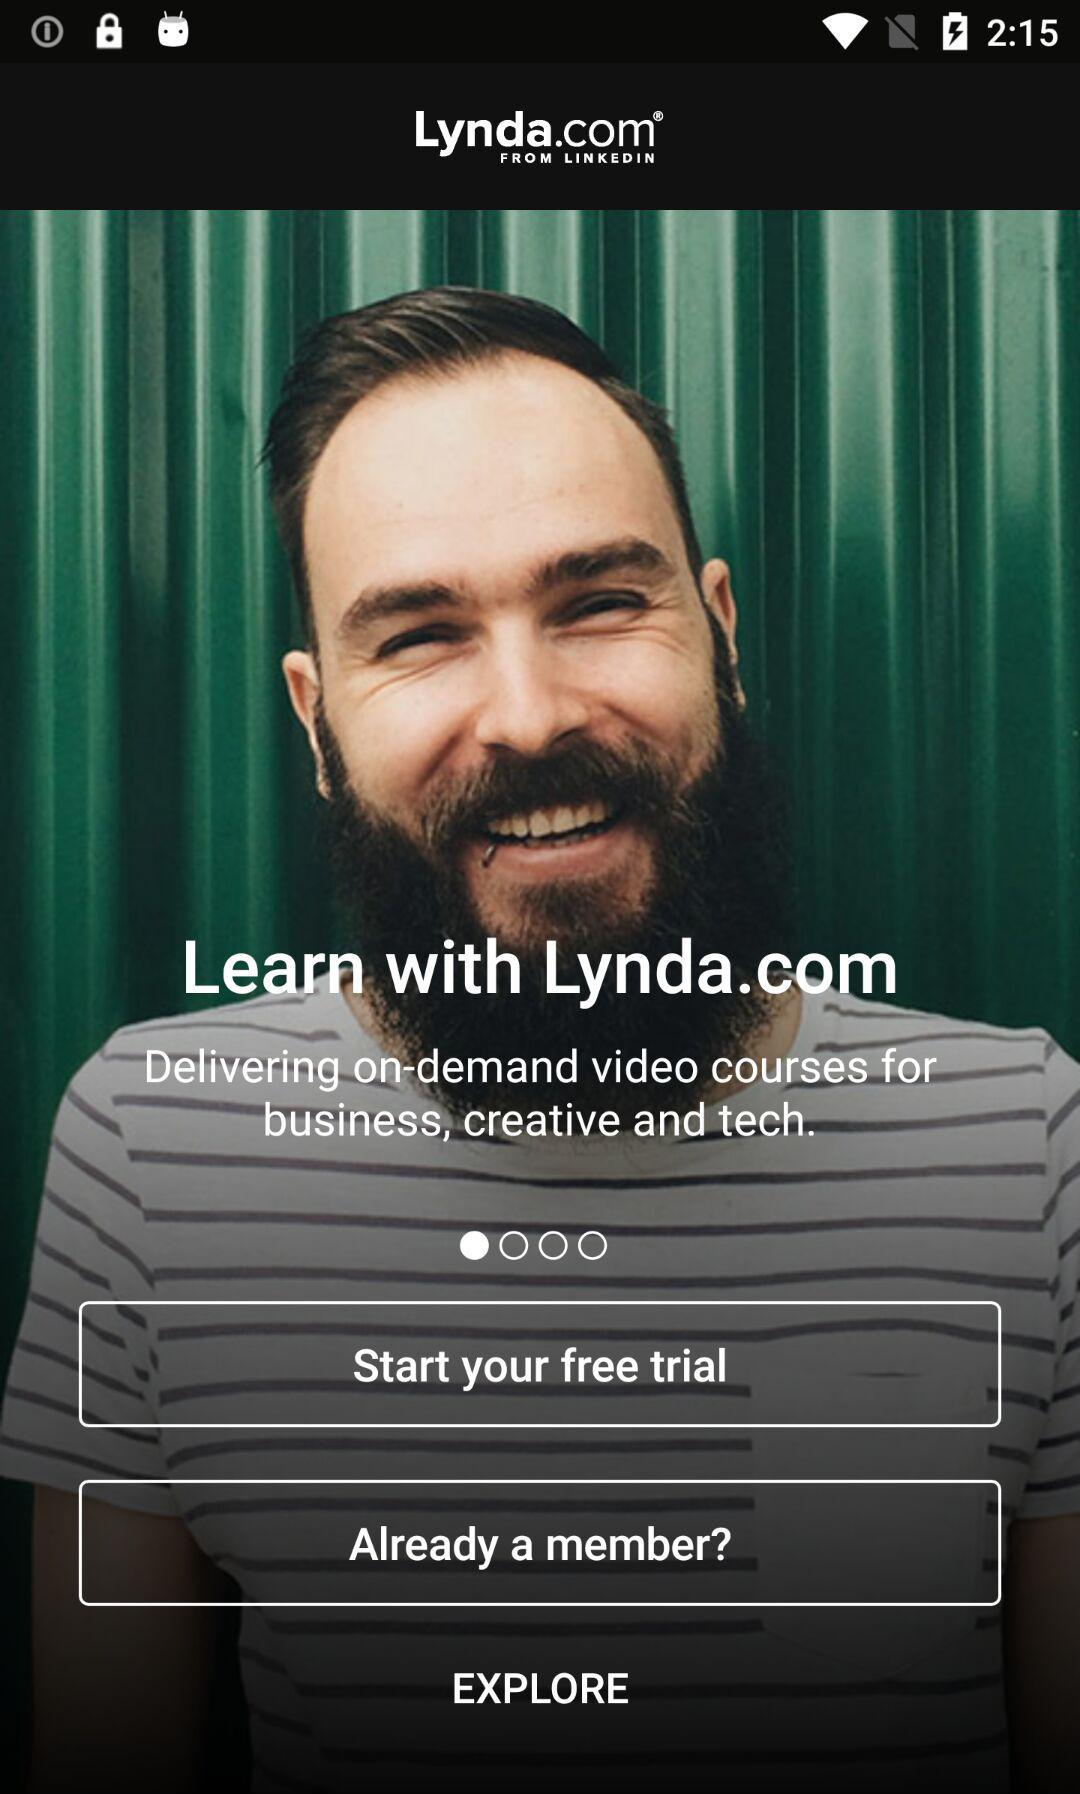BackgroundImage: (1, 211, 1080, 1794)
Image: (415, 111, 665, 167)
PageIndicator: (459, 1229, 610, 1263)
Text: (146, 1046, 938, 1142), (184, 937, 897, 1012), (454, 1671, 629, 1706)
TextButton: (79, 1299, 1002, 1428), (79, 1479, 1002, 1607)
UpperTaskBar: (1, 1, 1080, 64)
